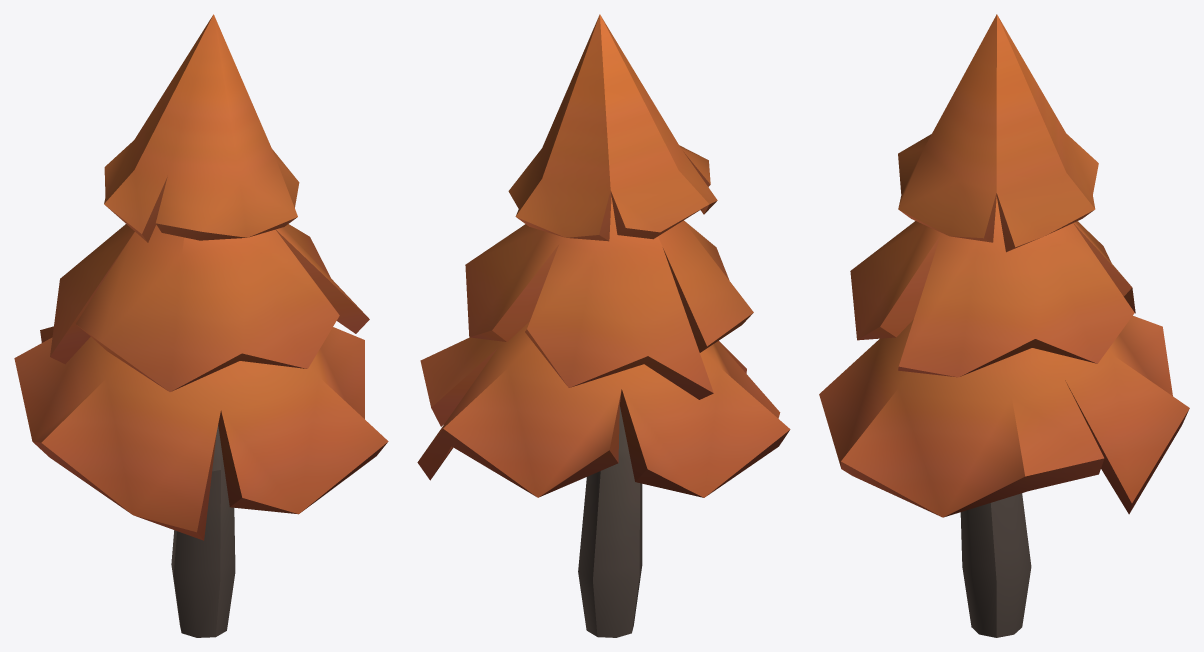
File: kay-pinheiro-laranja-pequeno.gltf
3 renders of one model, left to right at view 1: azimuth 30°, elevation 25°; view 2: azimuth 150°, elevation 25°; view 3: azimuth 270°, elevation 25°, orthographic.
Visible parts, largest first — view 1: tree_pine_orange_small; view 2: tree_pine_orange_small; view 3: tree_pine_orange_small.
Boxes of the visible parts, left/top/right/bottom form: tree_pine_orange_small: left=14, top=14, right=388, bottom=637; tree_pine_orange_small: left=417, top=14, right=790, bottom=637; tree_pine_orange_small: left=819, top=14, right=1189, bottom=637.
Bounding box in the file's own units: 1.2 × 2.02 × 1.1.
1 material, 1 textured.
